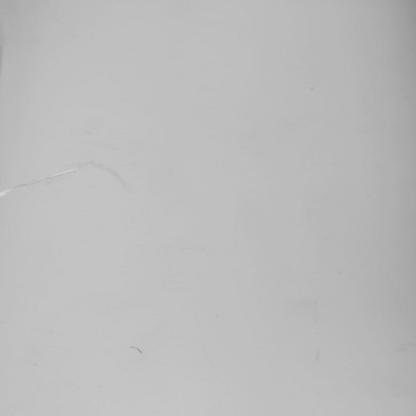sunshang: (1, 170, 80, 194)
